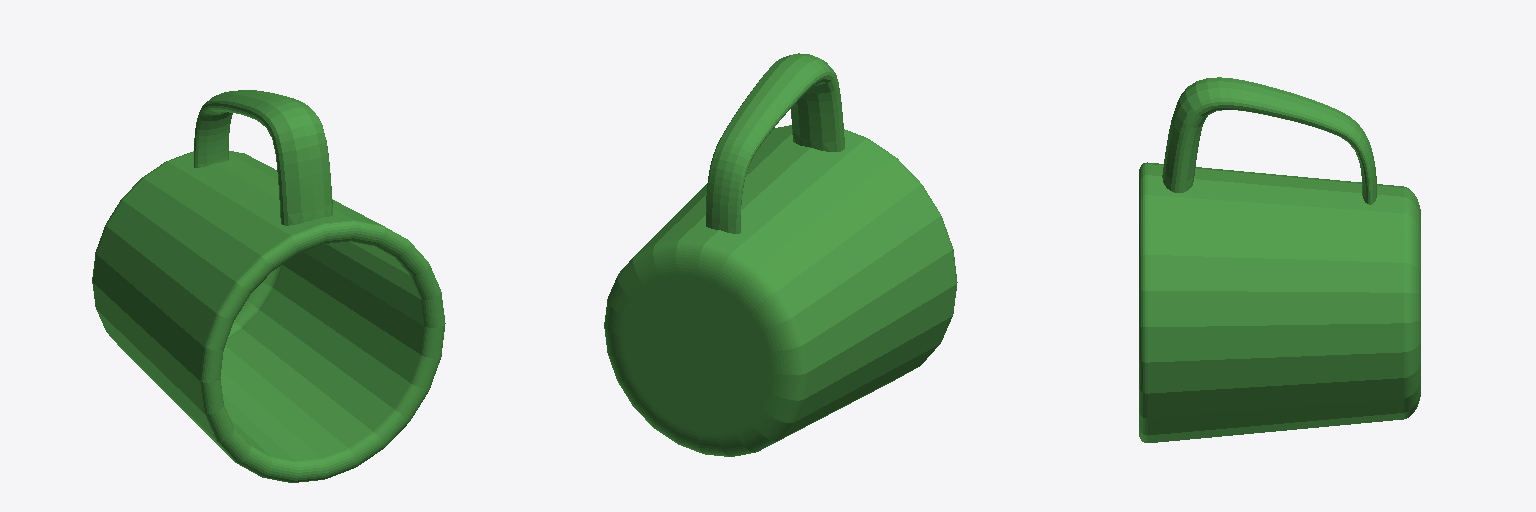
The picture shows the model from 3 angles: view 1: azimuth 30°, elevation 25°; view 2: azimuth 150°, elevation 25°; view 3: azimuth 270°, elevation 25°; orthographic projection.
Parts seen in each view (by area): view 1: instance_cup_9; view 2: instance_cup_9; view 3: instance_cup_9.
Boxes of the visible parts, x1=… form: instance_cup_9: x1=92, y1=90, x2=445, y2=482; instance_cup_9: x1=604, y1=53, x2=957, y2=456; instance_cup_9: x1=1139, y1=77, x2=1420, y2=442.
Bounding box in the file's own units: 0.0812 × 0.111 × 0.0812.